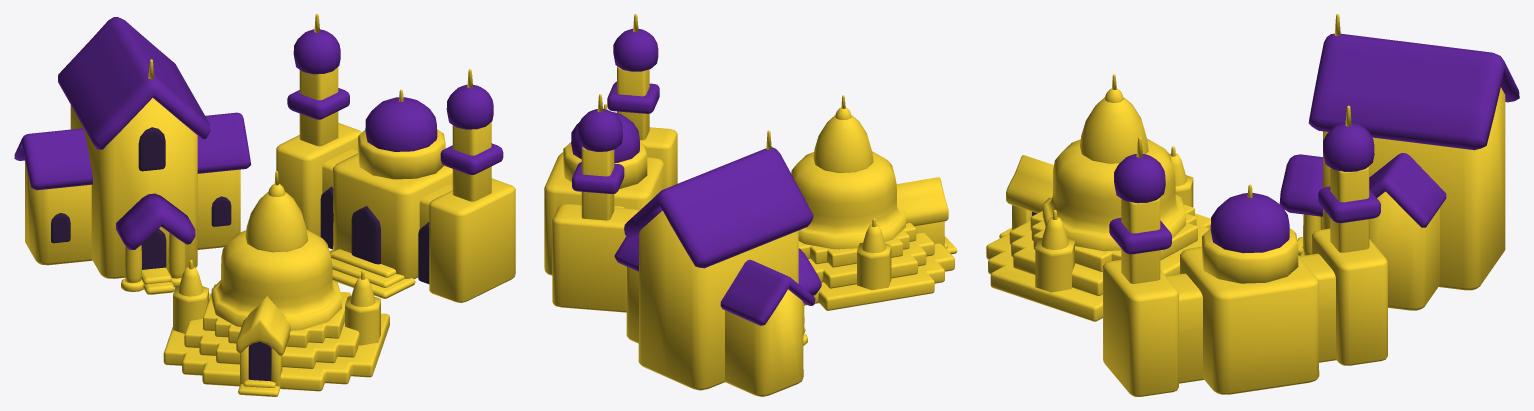
Rendered from Temple.gltf.
The picture shows the model from 3 angles, left to right: view 1: azimuth 30°, elevation 25°; view 2: azimuth 150°, elevation 25°; view 3: azimuth 270°, elevation 25°; orthographic projection. The views are drawn at different scales.
Parts seen in each view (by area): view 1: Temple_Base, Temple; view 2: Temple_Base, Temple; view 3: Temple_Base, Temple.
Part boxes in pixels (x1,y1,x2,y2): Temple_Base: (25, 14, 515, 396); Temple: (14, 17, 503, 381); Temple_Base: (544, 14, 957, 396); Temple: (571, 28, 821, 325); Temple_Base: (986, 14, 1505, 396); Temple: (1032, 33, 1519, 254).
Size of the model in its own units: 10.08 by 5.9 by 11.88.
